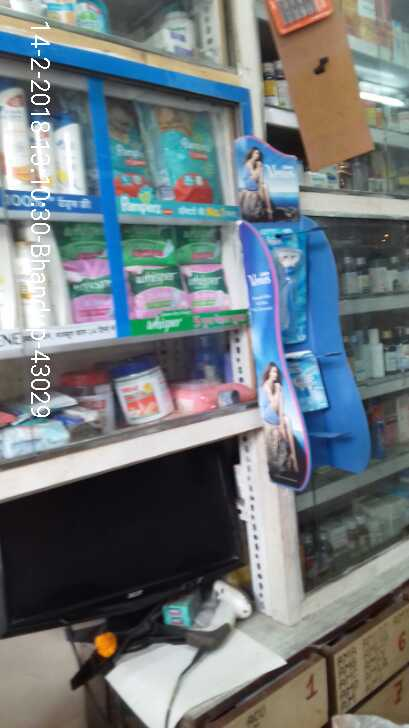beauty: (272, 230, 314, 345), (1, 84, 37, 191), (283, 355, 335, 414), (17, 243, 52, 323), (57, 116, 82, 199)
pharmacy: (147, 104, 222, 205), (108, 97, 153, 198), (67, 262, 118, 318), (126, 269, 189, 309), (124, 223, 180, 264), (58, 221, 112, 261), (180, 224, 220, 265), (189, 268, 230, 303)
